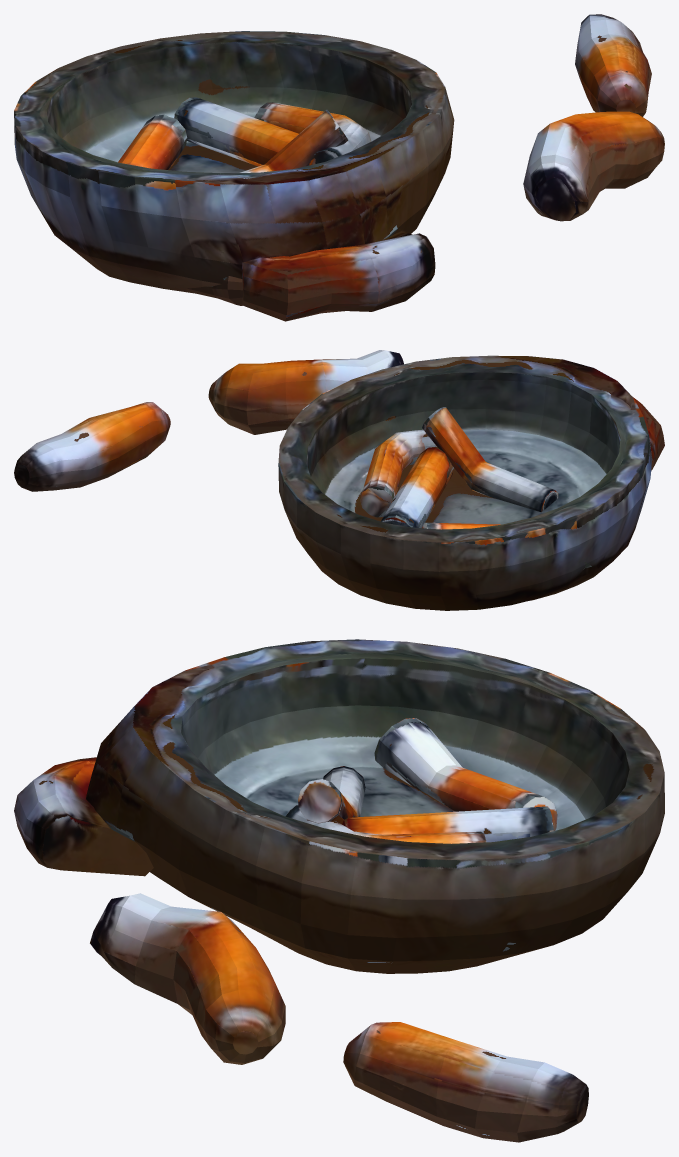
File: Askkopp.fbx
The picture shows the model from 3 angles, top to bottom: view 1: azimuth 30°, elevation 25°; view 2: azimuth 150°, elevation 25°; view 3: azimuth 270°, elevation 25°; orthographic projection. The views are drawn at different scales.
Visible parts, largest first — view 1: Cylinder; view 2: Cylinder; view 3: Cylinder.
Part boxes in pixels (bbox=[...]): Cylinder: bbox=[14, 14, 664, 321]; Cylinder: bbox=[14, 350, 664, 610]; Cylinder: bbox=[14, 639, 664, 1142].
Size of the model in its own units: 25.65 by 5.76 by 18.89.
Materials: 1 (1 with a texture image).
